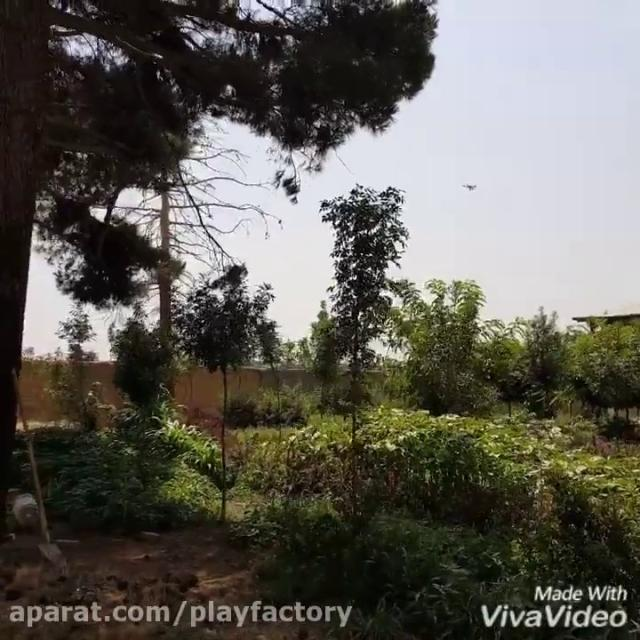drone: (460, 177, 478, 195)
